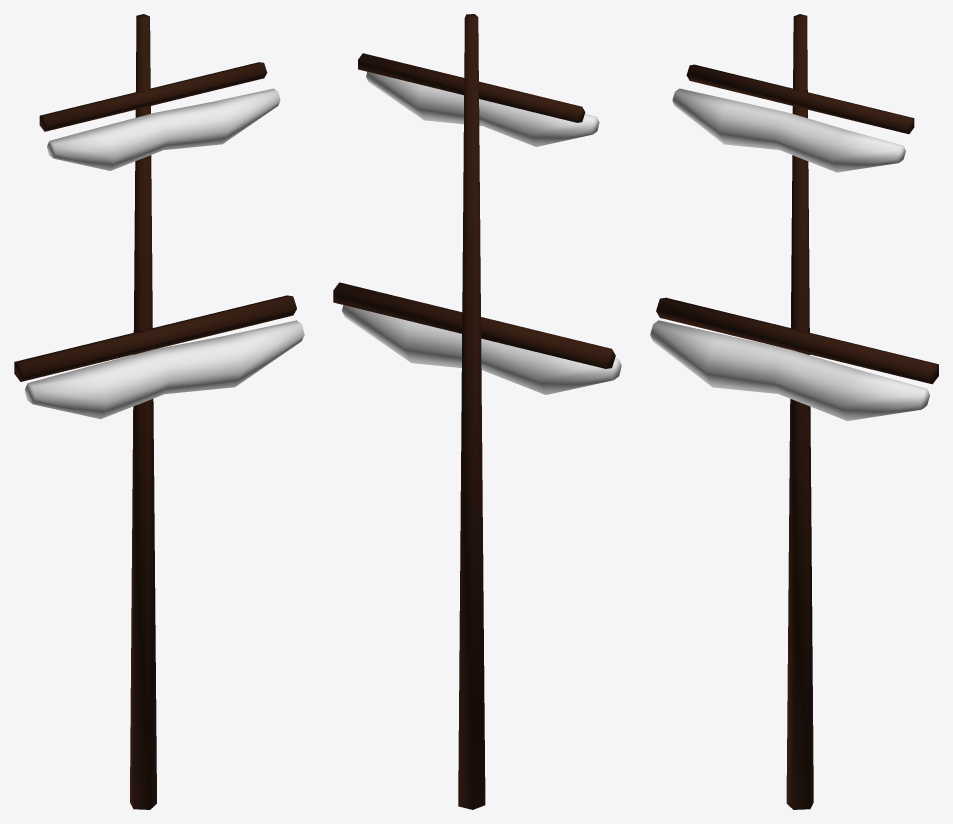
File: foremast-furled.obj
The picture shows the model from 3 angles, left to right: view 1: azimuth 30°, elevation 25°; view 2: azimuth 150°, elevation 25°; view 3: azimuth 330°, elevation 25°; orthographic projection.
Visible parts, largest first — view 1: Cylinder.051_Cylinder_Wood, Cylinder.045_Cylinder.011_SailCloth, Cylinder.054_Cylinder.011_SailCloth, Cylinder.052_Cylinder.001_Wood, Cylinder.053_Cylinder.001_Wood; view 2: Cylinder.051_Cylinder_Wood, Cylinder.045_Cylinder.011_SailCloth, Cylinder.052_Cylinder.001_Wood, Cylinder.054_Cylinder.011_SailCloth, Cylinder.053_Cylinder.001_Wood; view 3: Cylinder.051_Cylinder_Wood, Cylinder.045_Cylinder.011_SailCloth, Cylinder.054_Cylinder.011_SailCloth, Cylinder.052_Cylinder.001_Wood, Cylinder.053_Cylinder.001_Wood.
Part boxes in pixels (box(x1,y1,x2,y2)): Cylinder.051_Cylinder_Wood: box(130, 14, 156, 809); Cylinder.045_Cylinder.011_SailCloth: box(24, 320, 304, 419); Cylinder.054_Cylinder.011_SailCloth: box(47, 88, 280, 170); Cylinder.052_Cylinder.001_Wood: box(14, 295, 296, 381); Cylinder.053_Cylinder.001_Wood: box(39, 62, 267, 131); Cylinder.051_Cylinder_Wood: box(458, 14, 485, 809); Cylinder.045_Cylinder.011_SailCloth: box(342, 305, 621, 394); Cylinder.052_Cylinder.001_Wood: box(333, 282, 615, 368); Cylinder.054_Cylinder.011_SailCloth: box(366, 71, 599, 146); Cylinder.053_Cylinder.001_Wood: box(358, 53, 585, 122); Cylinder.051_Cylinder_Wood: box(786, 14, 813, 809); Cylinder.045_Cylinder.011_SailCloth: box(650, 320, 929, 420); Cylinder.054_Cylinder.011_SailCloth: box(672, 88, 905, 172); Cylinder.052_Cylinder.001_Wood: box(656, 297, 938, 384); Cylinder.053_Cylinder.001_Wood: box(686, 64, 914, 134).
Size of the model in its own units: 1.66 by 4.59 by 0.3744.
